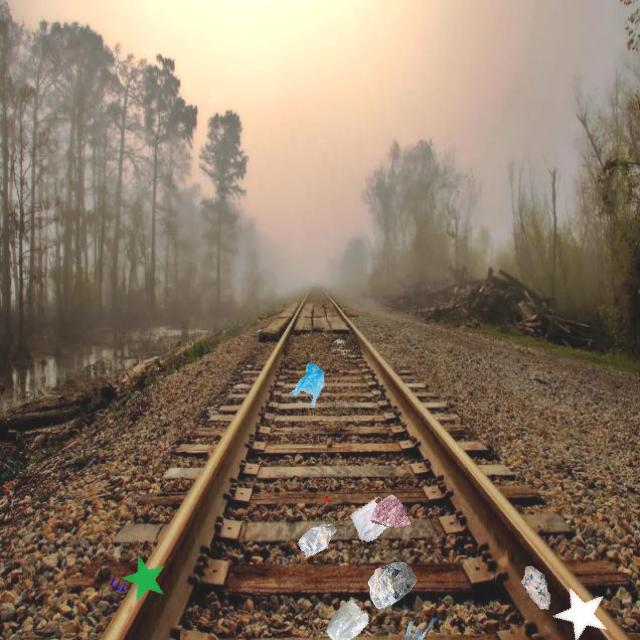0 plastic_garbage_on_track: (349, 497, 398, 543), (324, 598, 370, 640), (288, 362, 325, 408), (295, 523, 337, 561), (410, 617, 439, 640)
1 stone_on_track: (367, 562, 417, 609), (370, 493, 413, 528), (521, 565, 551, 610)
2 negative_shape: (552, 587, 608, 640), (120, 554, 164, 602)
3 negative_text: (110, 577, 126, 592), (320, 493, 332, 504)
4 track: (101, 339, 630, 639)
